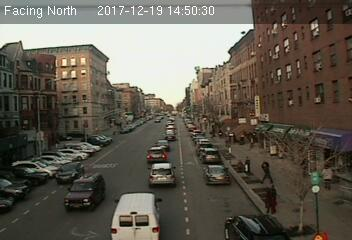car: (65, 174, 105, 210), (147, 162, 178, 186), (55, 161, 84, 184), (204, 164, 231, 185), (146, 147, 168, 166), (200, 147, 223, 164), (155, 140, 170, 151)
pedestrian: (260, 158, 275, 185), (244, 156, 253, 178)
truck: (108, 192, 163, 240)
